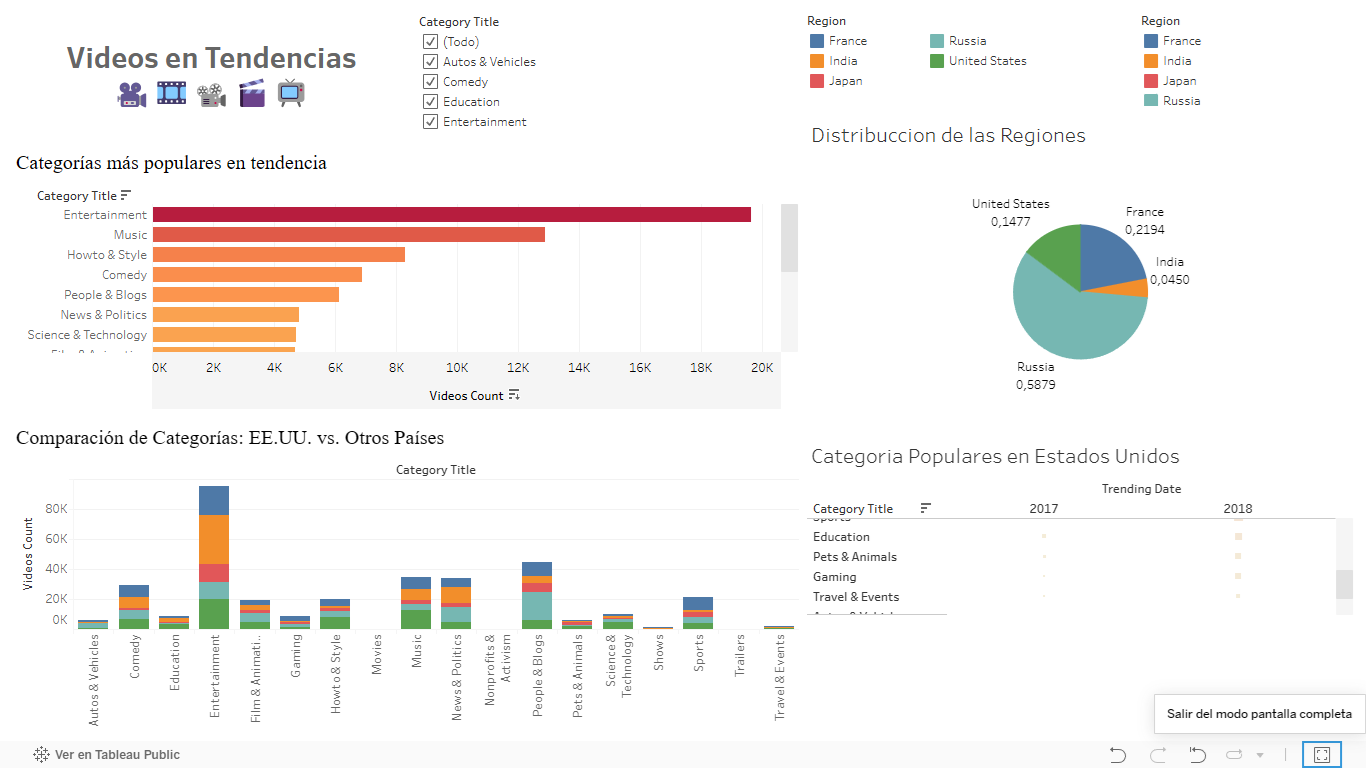

The dashboard page shown, as its layout file describes it:
{"tool":"tableau","page":{"name":"Dashboard 1","canvas":[1000,1000],"units":"permille","ordinal":0},"visuals":[{"type":"text","box":[6.9,14.7,297.5,173.6]},{"type":"filter","title":"Tabla de Resaltado","param":"[federated.049nfj913qcl771elpg3b0oezrb1].[none:category_title:nk]","box":[304.4,14.7,282.9,173.6]},{"type":"legend","title":"Grafico de pastel","param":"[federated.049nfj913qcl771elpg3b0oezrb1].[none:region:nk]","box":[587.4,14.7,289.2,137.2]},{"type":"legend","title":"comapracion de EU VS otro pais","param":"[federated.049nfj913qcl771elpg3b0oezrb1].[none:region:nk]","box":[876.5,14.7,116.5,137.2]},{"type":"worksheet","title":"Grafico de pastel","mark":"Pie","box":[587.4,152,405.7,429.3]},{"type":"worksheet","title":"categoria populares","mark":"Automatic","rows":["category_title"],"cols":["videos_count"],"box":[6.9,188.3,580.4,369.3]},{"type":"worksheet","title":"comapracion de EU VS otro pais","mark":"Automatic","rows":["videos_count"],"cols":["category_title"],"box":[6.9,557.6,580.4,427.7]},{"type":"worksheet","title":"Tabla de Resaltado","mark":"Automatic","rows":["category_title"],"cols":["trending_date"],"box":[587.4,581.2,405.7,345.6]}]}

Visuals, with their boxes on the dashboard's canvas, which has no fixed pixel size, in thousandths of its width and height (x1, y1, x2, y2). These are canvas units, not pixel positions in the 1366x768 screenshot, which may show the page scaled, cropped or inside an application window:
text: (x1=7, y1=15, x2=304, y2=188)
"Tabla de Resaltado" filter: (x1=304, y1=15, x2=587, y2=188)
"Grafico de pastel" legend: (x1=587, y1=15, x2=877, y2=152)
"comapracion de EU VS otro pais" legend: (x1=876, y1=15, x2=993, y2=152)
"Grafico de pastel" worksheet (Pie marks): (x1=587, y1=152, x2=993, y2=581)
"categoria populares" worksheet: (x1=7, y1=188, x2=587, y2=558)
"comapracion de EU VS otro pais" worksheet: (x1=7, y1=558, x2=587, y2=985)
"Tabla de Resaltado" worksheet: (x1=587, y1=581, x2=993, y2=927)
